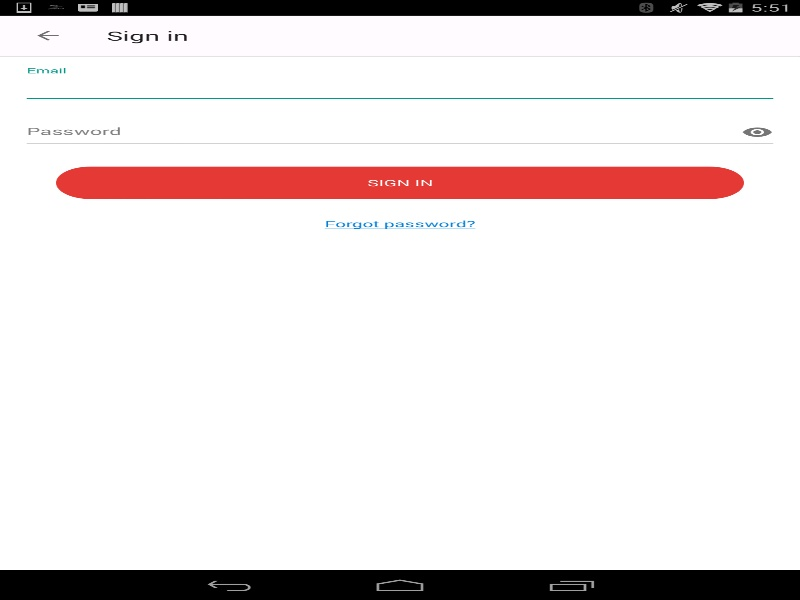Button: (56, 166, 744, 199), (10, 15, 85, 55), (736, 118, 778, 149)
Input: (21, 73, 778, 103), (21, 118, 778, 148)
